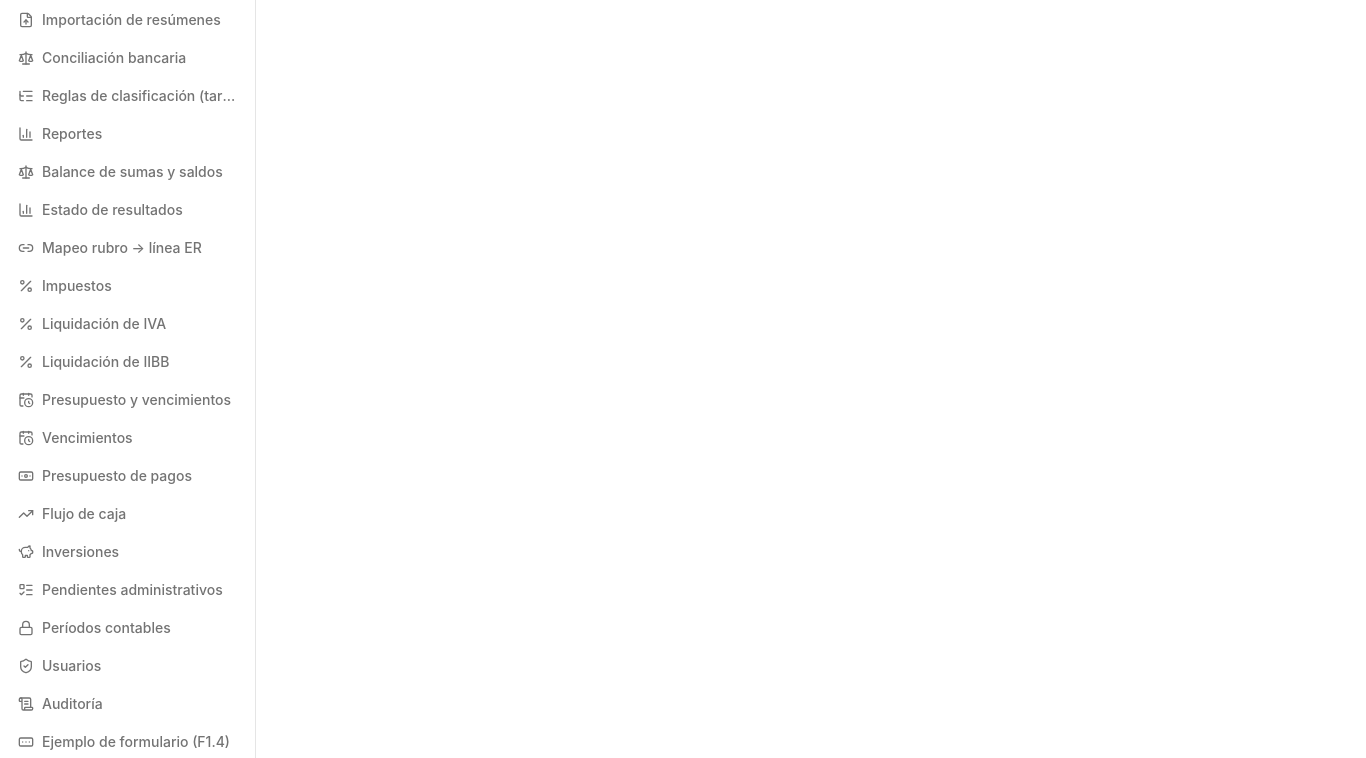
Test: App › valida el formulario de ejemplo con Zod antes de enviar
(page scrolled)
What coordinates should you click on to do the following:
click the link "Ejemplo de formulario (F1.4)"
I would click on:
 (124, 742)
Its box is x1=18 y1=733 x2=230 y2=750.
(page scrolled)
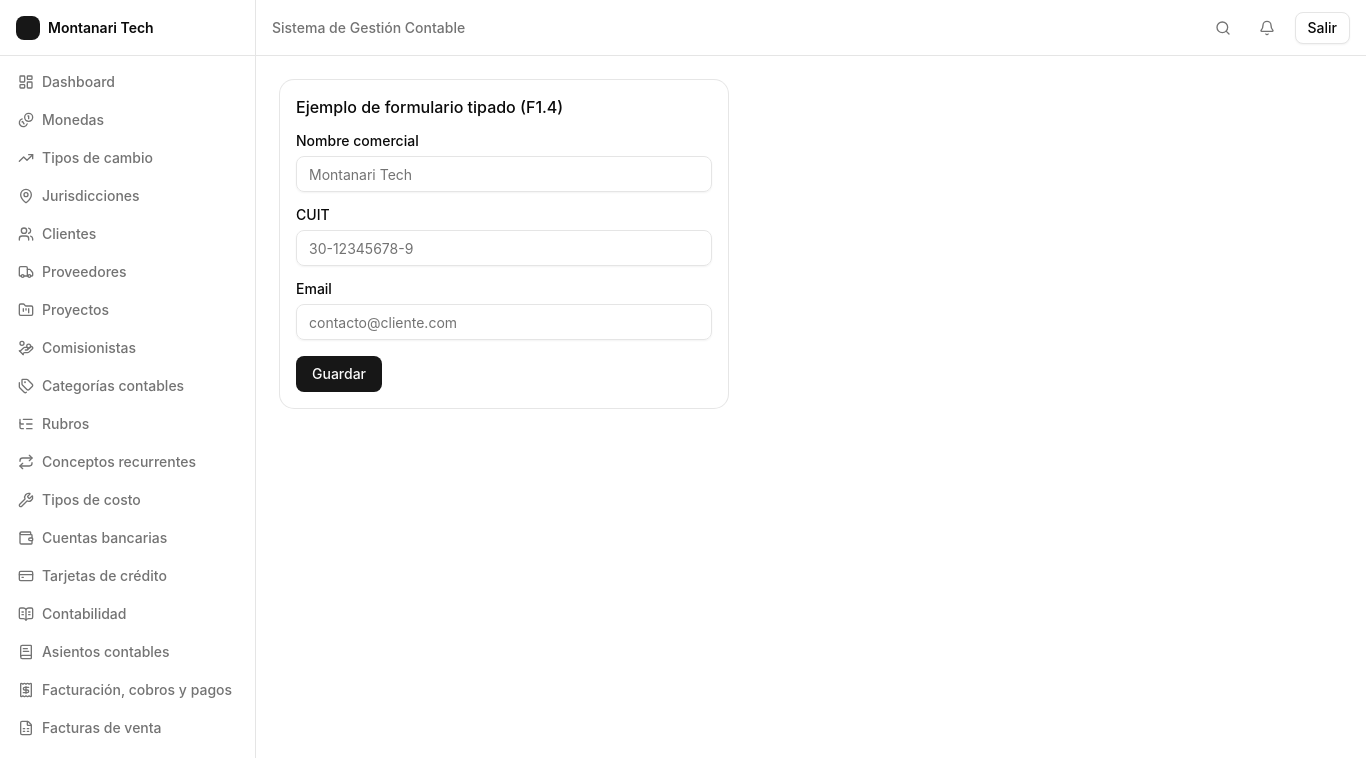
What coordinates should you click on to do the following:
click the button "Guardar"
I would click on:
 (339, 374)
Its box is x1=296 y1=356 x2=382 y2=392.
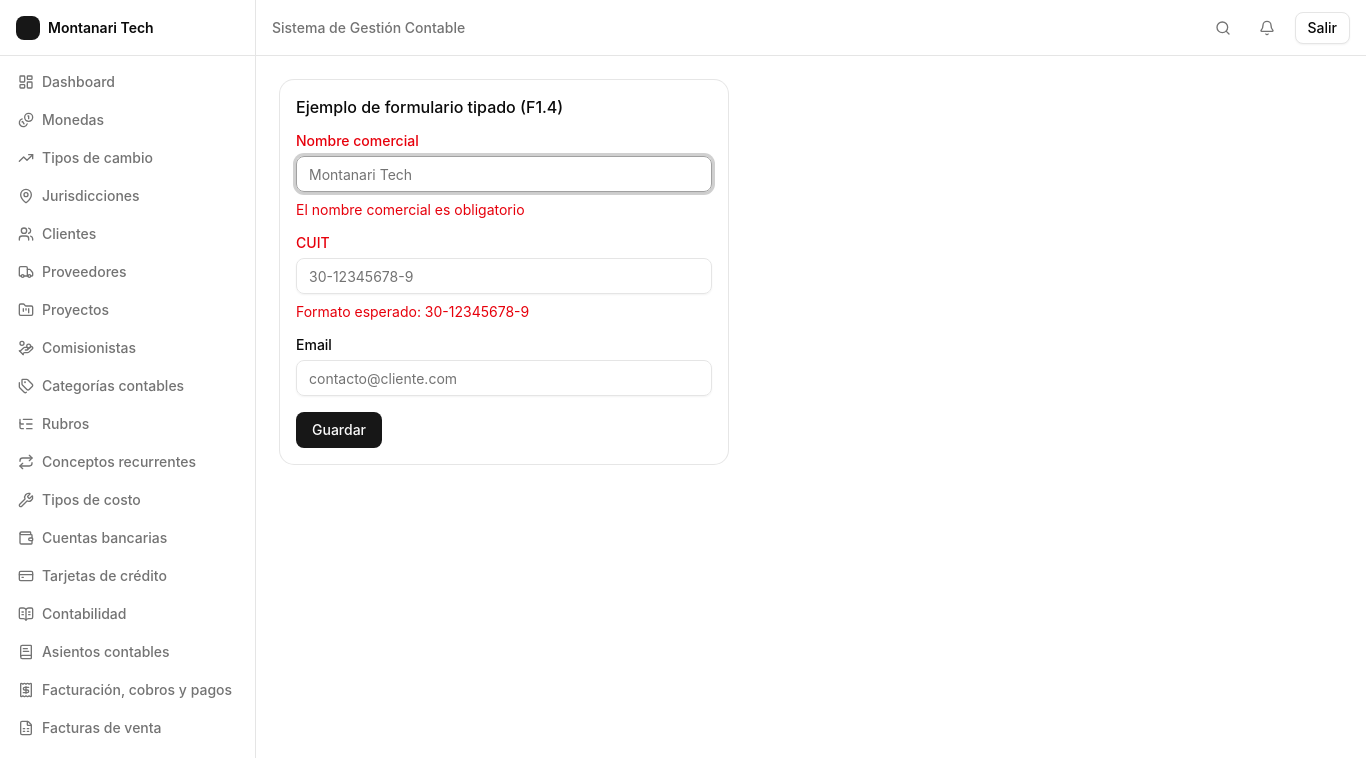
Now the text "El nombre comercial es obligatorio" is shown, box x1=296 y1=201 x2=524 y2=218
